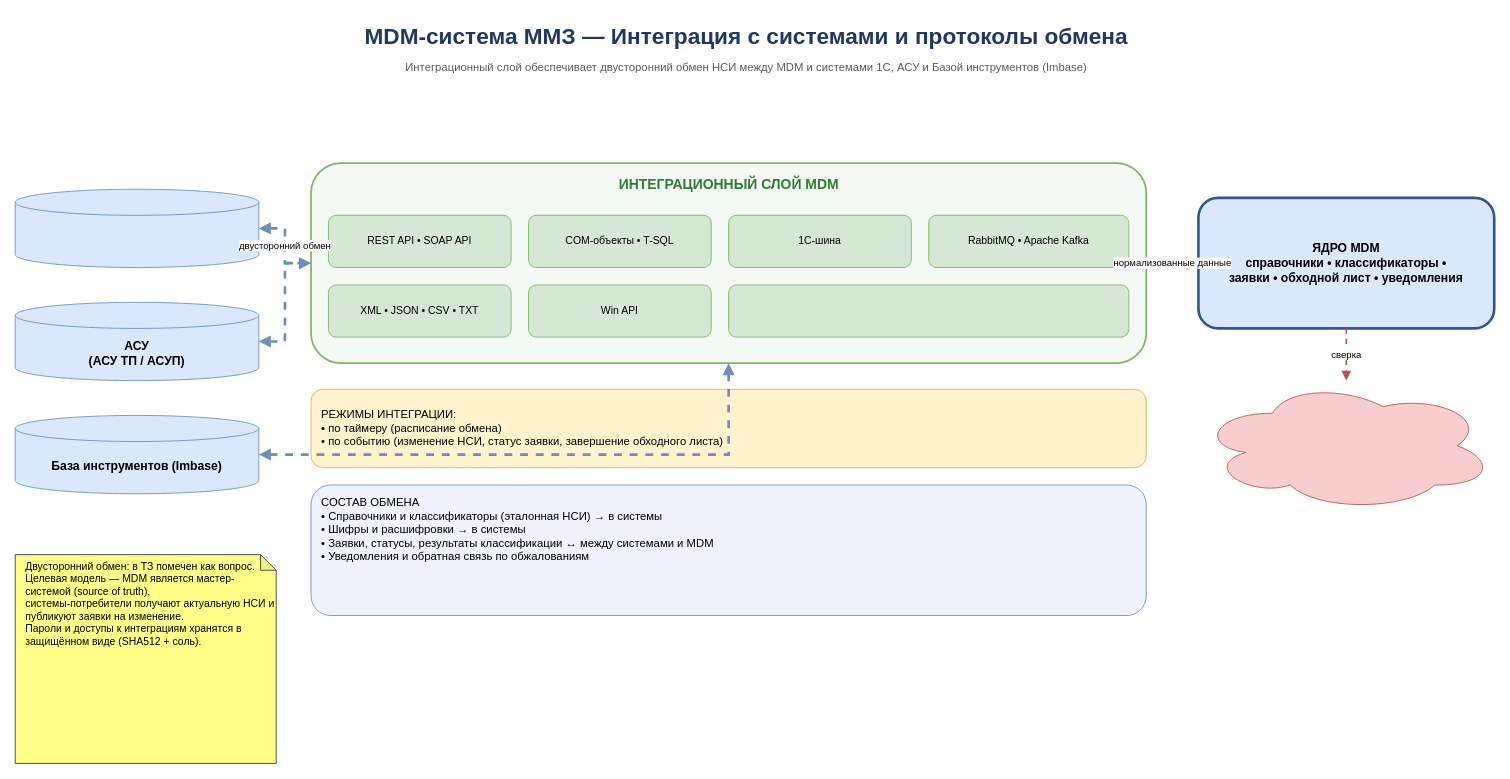
Image size: 1510x779. Some labels were removed from this diagram. Each missing label, with the centre of its shape:
1С (ERP / УПП): (x=136, y=228)
Внешние НСИ для сверки «Техэксперт» • реестр ФНС • ФГИС «Аршин» • Кладар: (x=1346, y=445)
Маппинг • нормализация • версионирование НСИ: (x=928, y=310)
